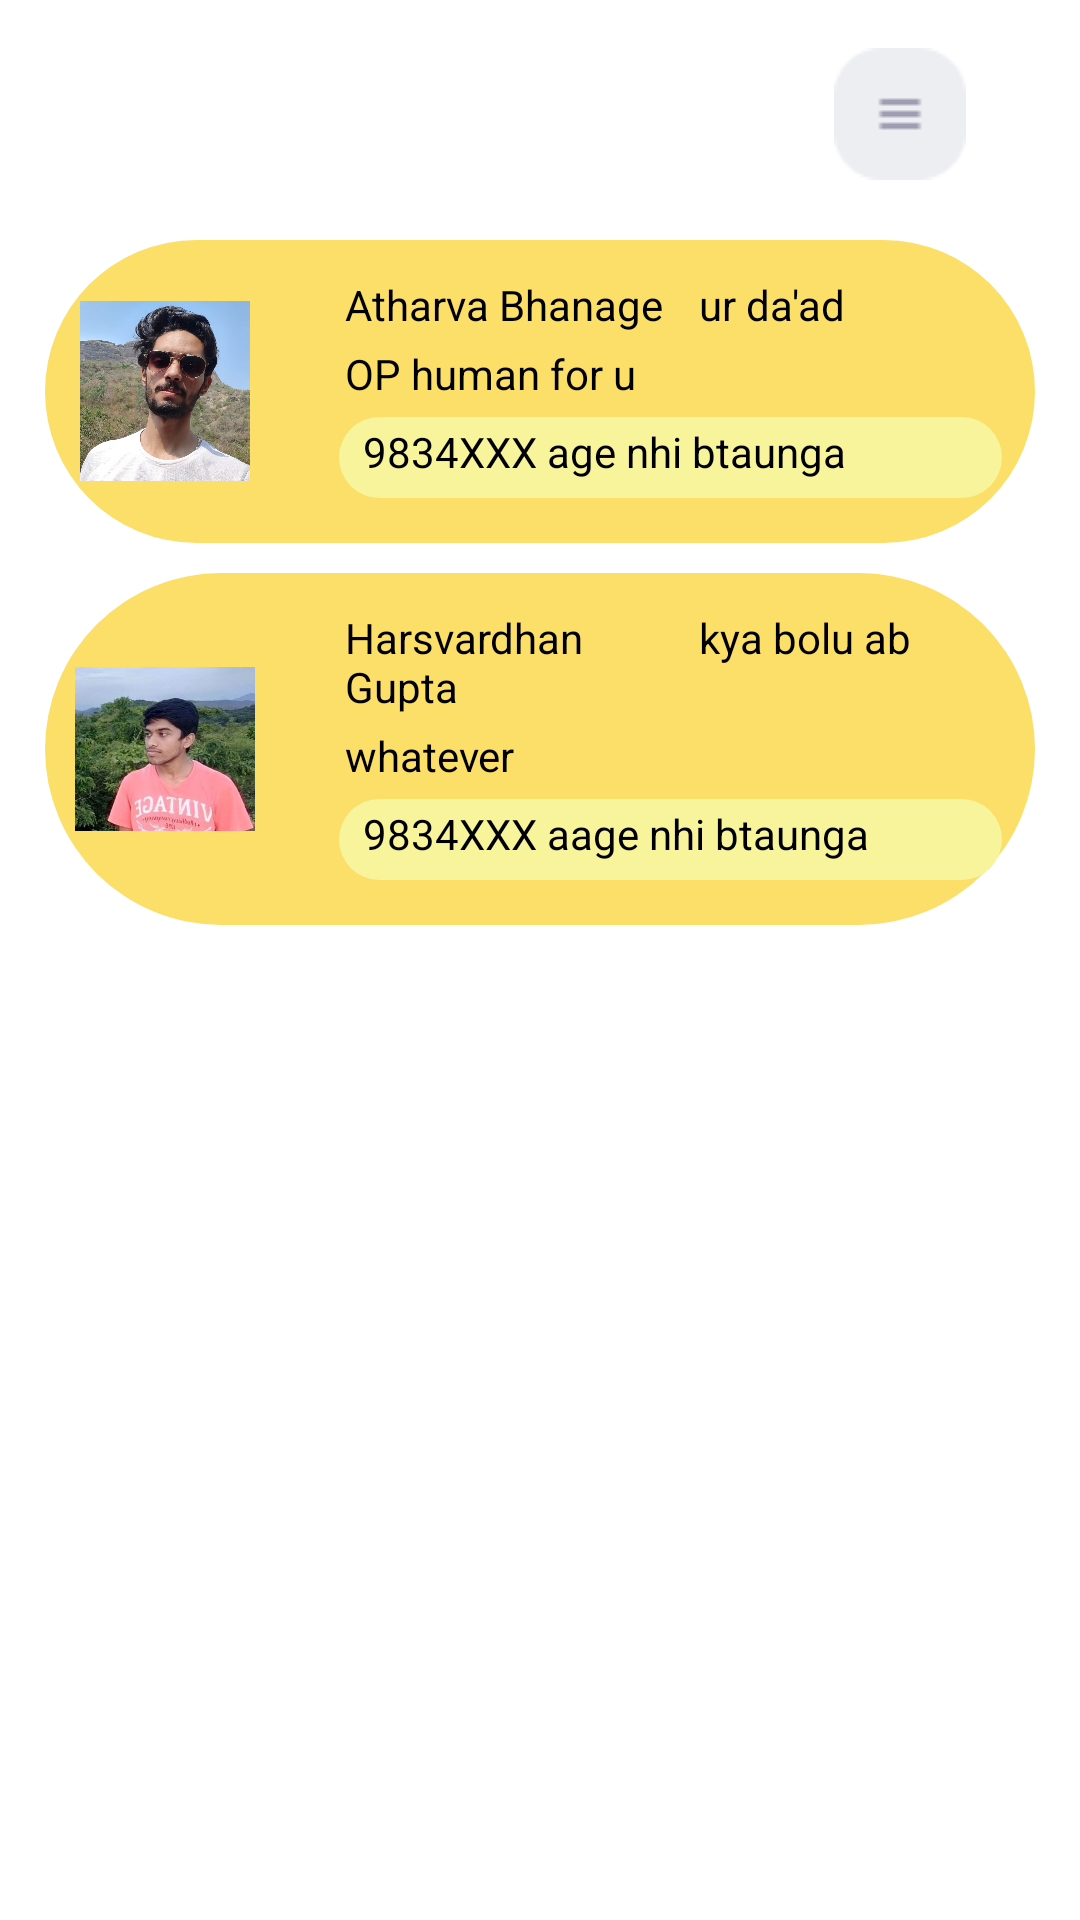

Where to tap for icons on this 1080px×1920px app screen, as (x=x, y=y):
ui nav drawer: (x=900, y=114)
